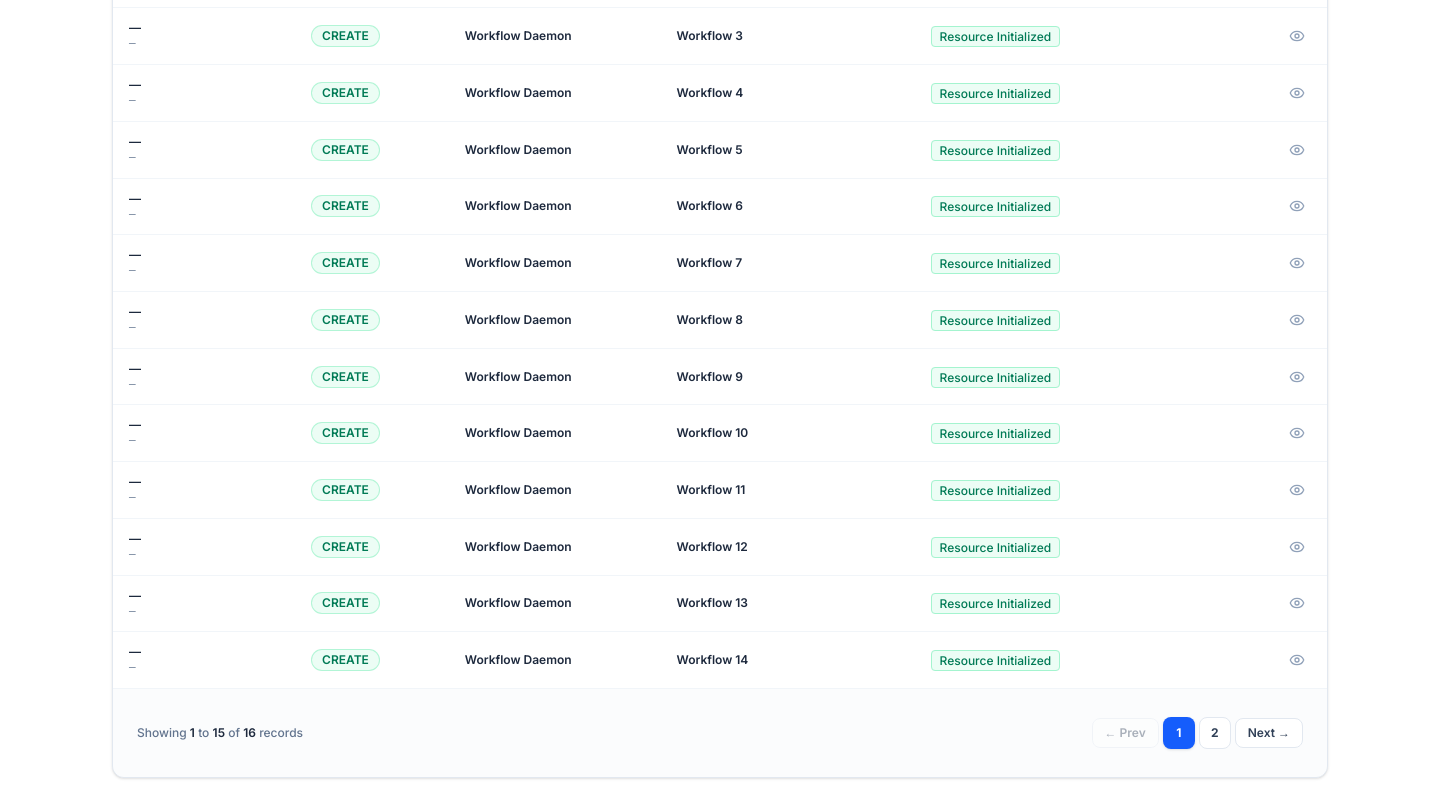
returns to page one after refresh and opens the detail for a filtered row
The image size is (1440, 810).
(page scrolled)
Click the button "Next →" at {"x": 1269, "y": 733}, box [1235, 718, 1303, 748]
(page scrolled)
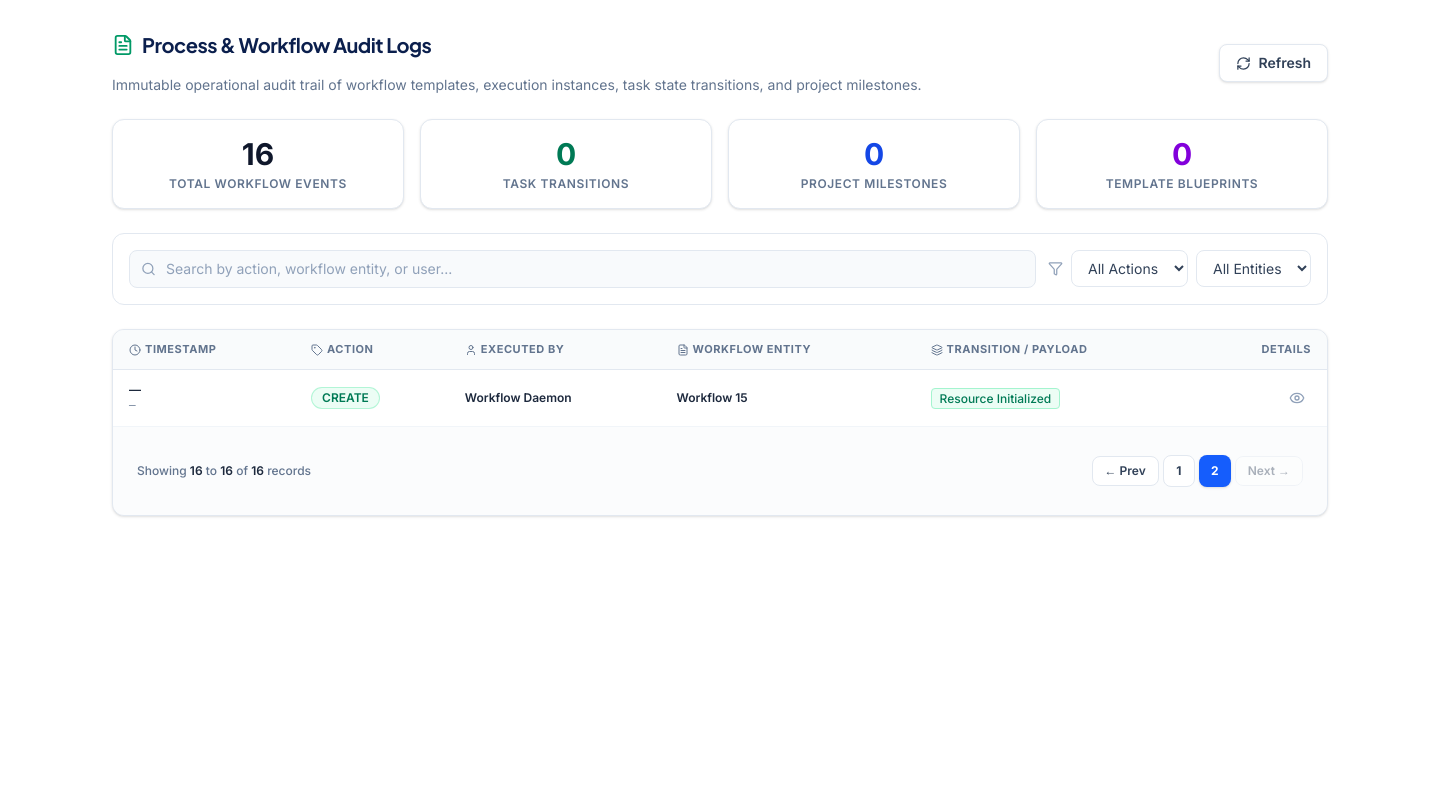
expect the text "Workflow 15" is shown: met, box [676, 390, 748, 405]
Click the button "Refresh" at {"x": 1273, "y": 63}, box [1218, 44, 1328, 82]
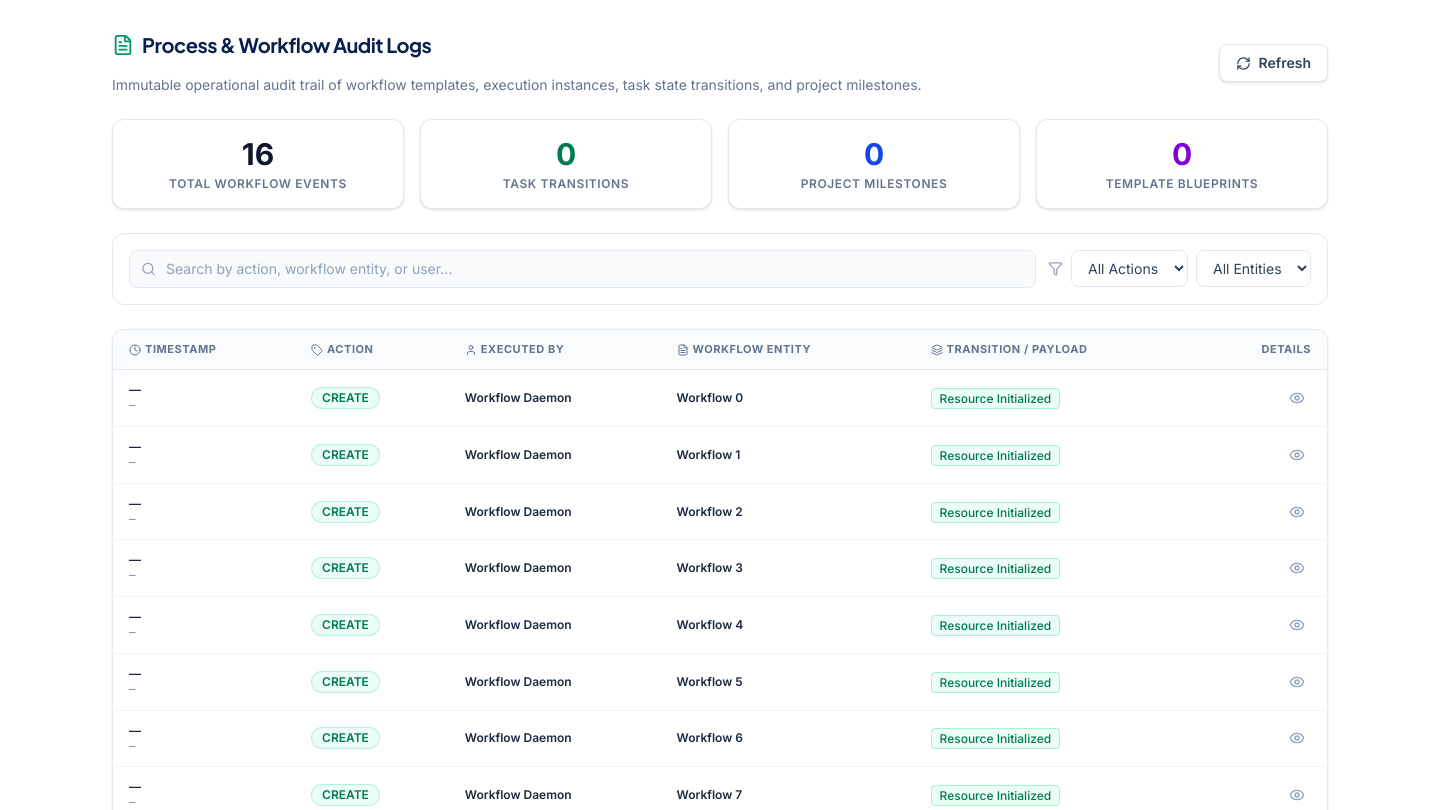
expect the text "Workflow 0" is shown: met, box [676, 390, 743, 405]
Type "Workflow 15" into the field with placeholder "Search by action, workflow entity, or user..." at {"x": 582, "y": 269}, box [129, 250, 1036, 288]
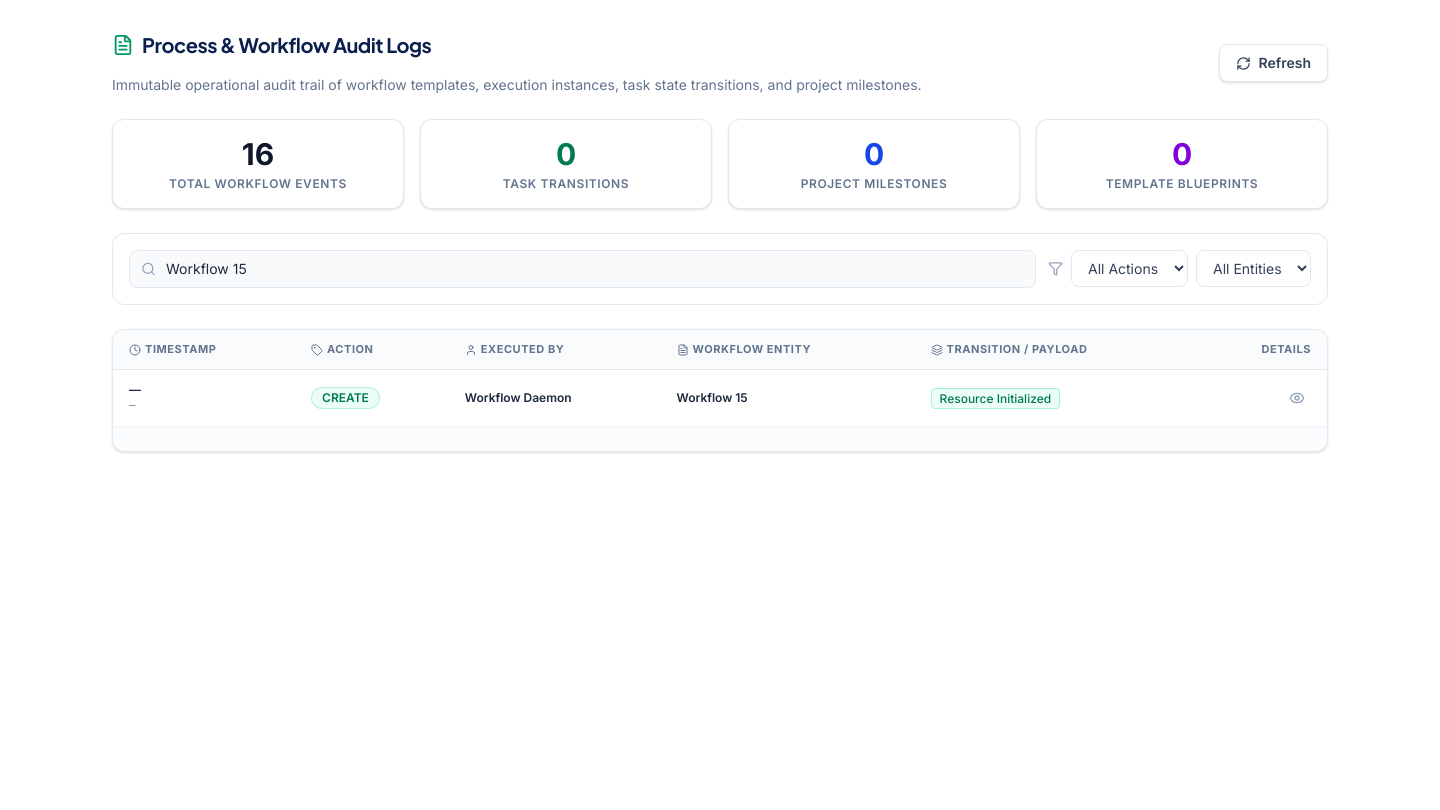
expect the text "Workflow 0" is gone: met
Click the button titled "View Details" at {"x": 1297, "y": 398}, box [1283, 384, 1311, 412]
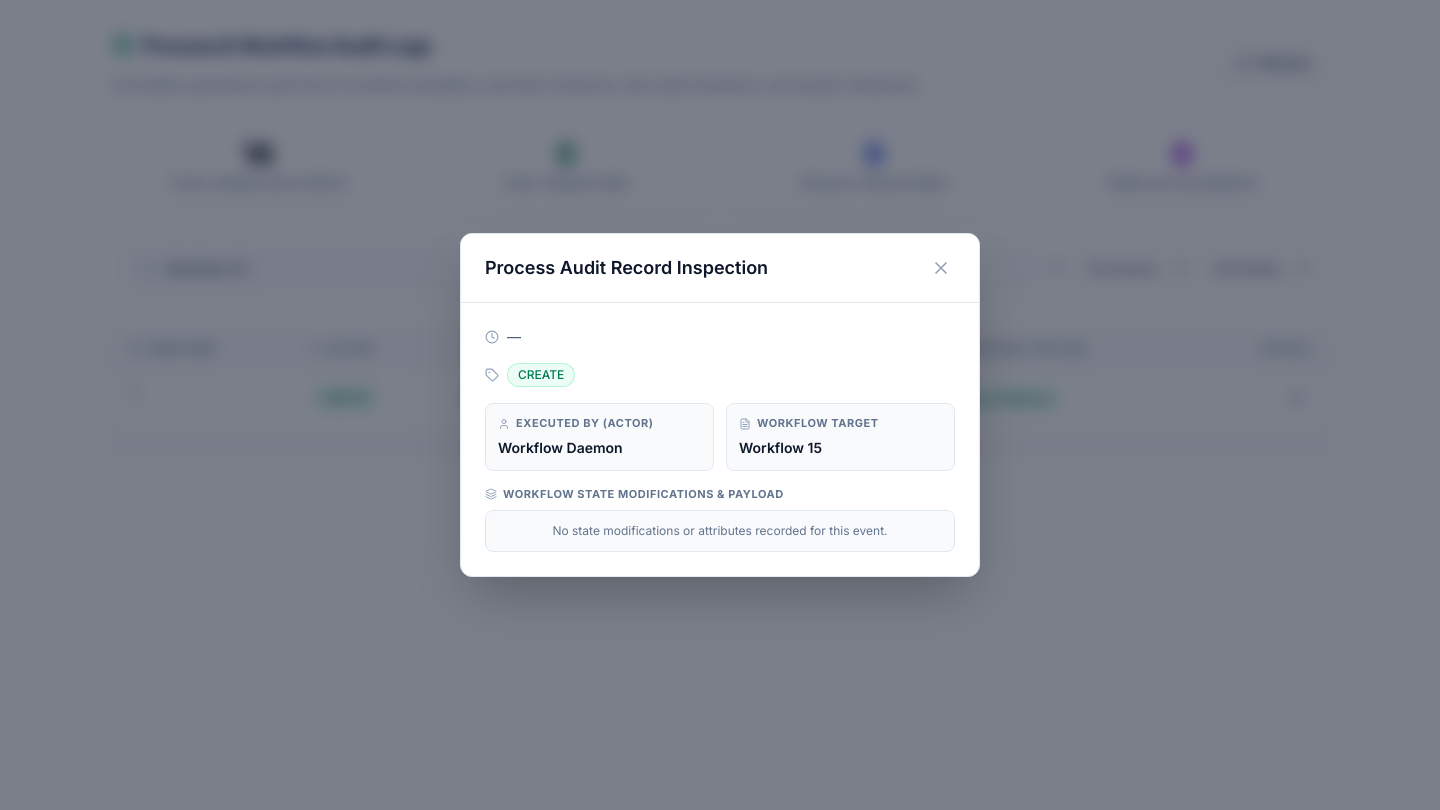
expect the text "Workflow 15" is shown 2 times: met, box [676, 390, 748, 405]; [739, 438, 822, 456]
expect the heading "Process Audit Record Inspection" is shown: met, box [485, 254, 768, 282]
